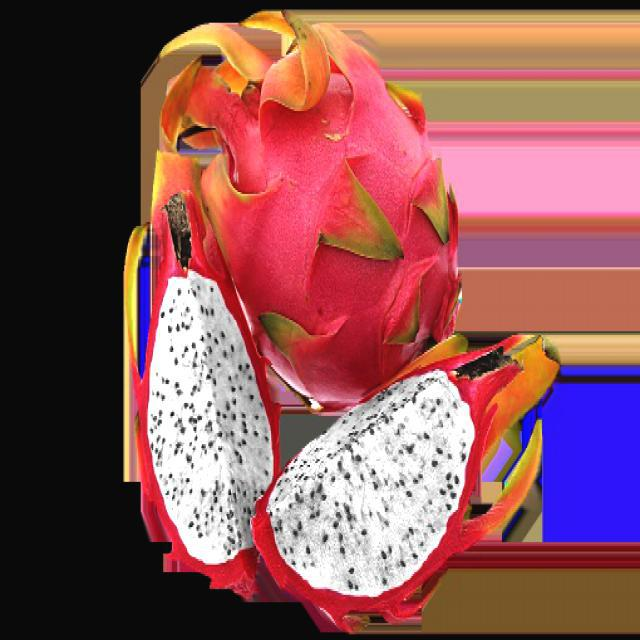trang: (166, 24, 462, 392), (256, 341, 520, 618), (145, 204, 283, 576)
